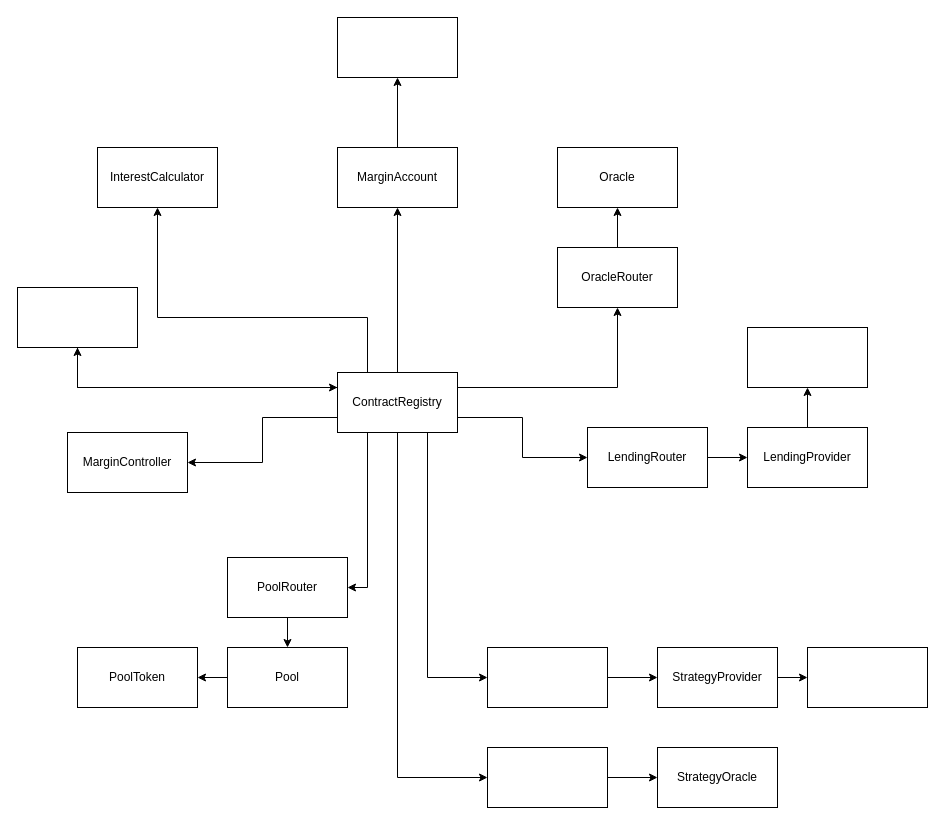
This 945x825 diagram has some shape labels left out. Here are the shapes that lost their labels. From the top down, the centre of each, then its label:
At (x=397, y=47): "Account".
At (x=77, y=317): "RiskManager".
At (x=807, y=357): "Lender".
At (x=547, y=677): "StrategyRouter".
At (x=867, y=677): "Strategy".
At (x=547, y=777): "StrategyController".
